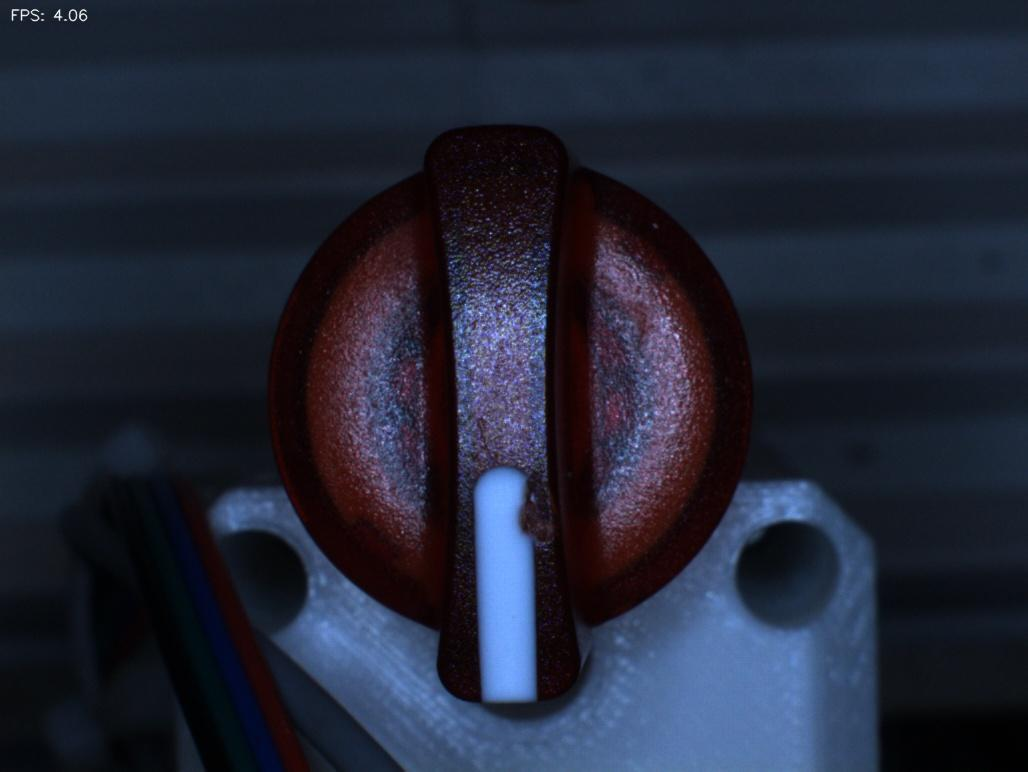Choc: (492, 446, 593, 562)
